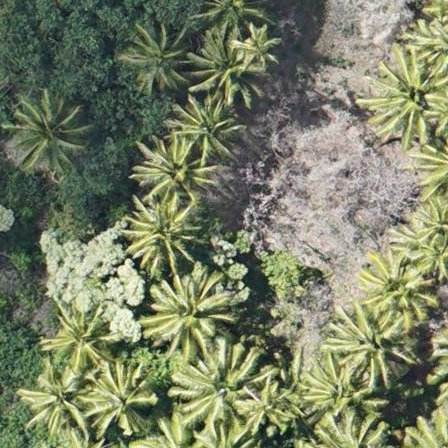palm_tree: (368, 49, 448, 139), (151, 266, 232, 352), (120, 13, 198, 96), (5, 93, 81, 175), (177, 353, 258, 427), (330, 300, 405, 379), (296, 357, 375, 425), (125, 199, 198, 269), (359, 254, 431, 323), (22, 365, 90, 431), (84, 370, 155, 433), (142, 133, 205, 200), (43, 305, 111, 367)
